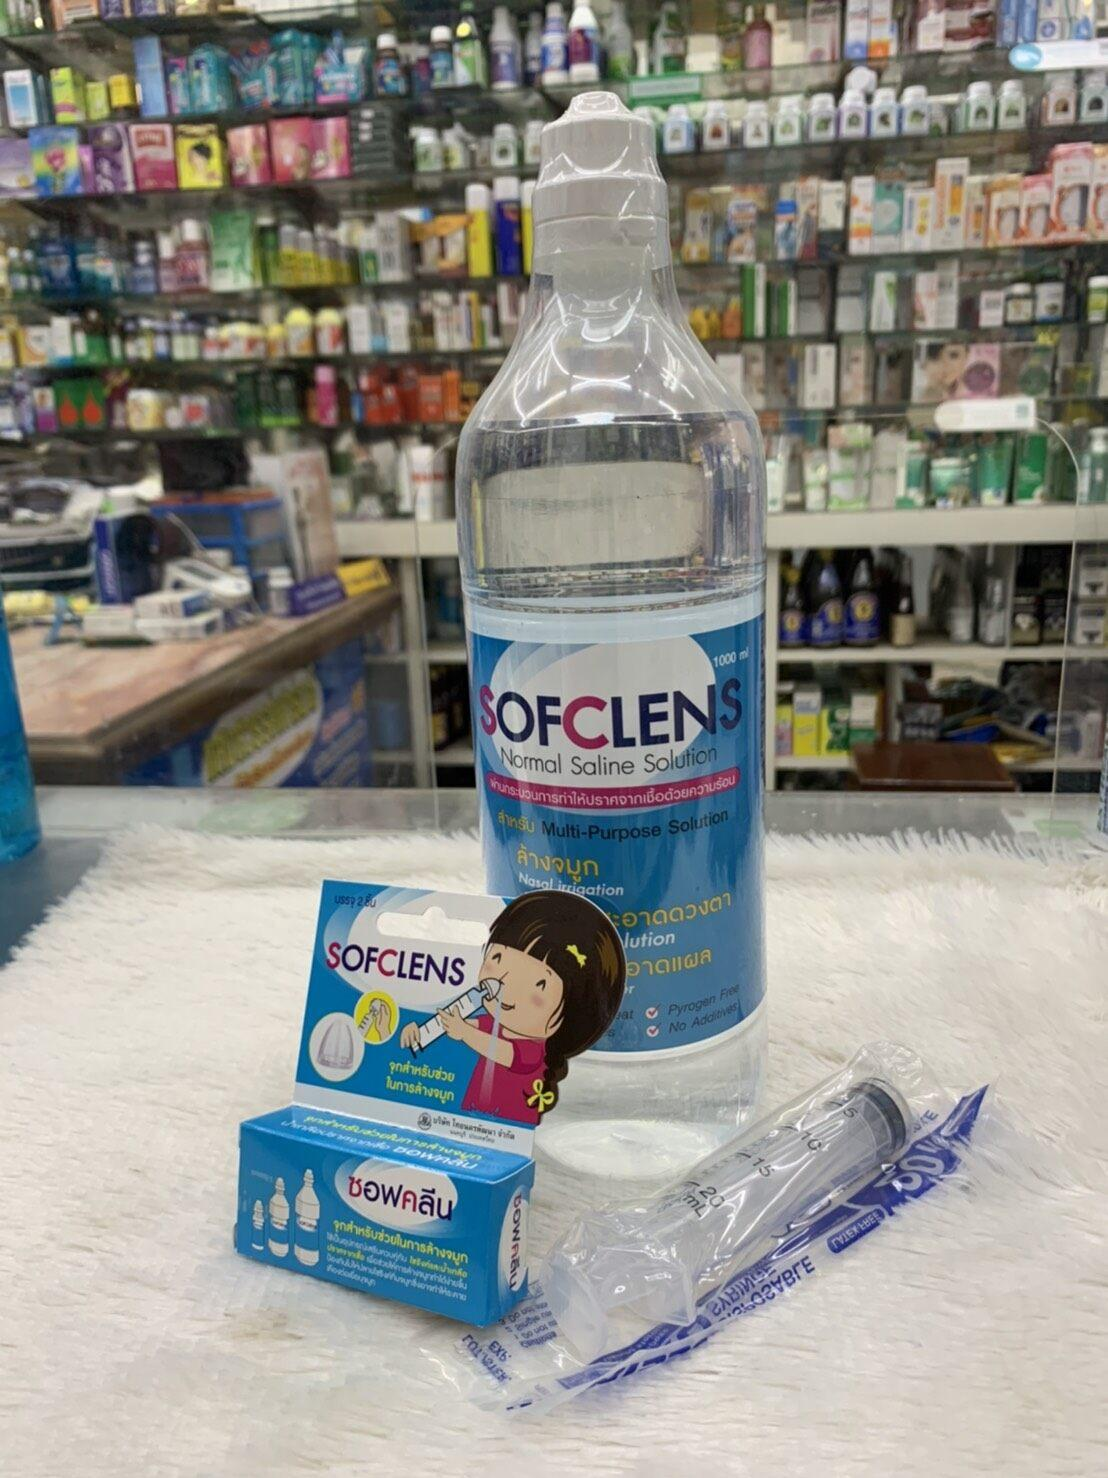bottle: (427, 57, 816, 1349)
